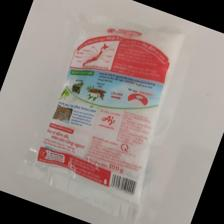Ajinomoto: (32, 19, 185, 207)
